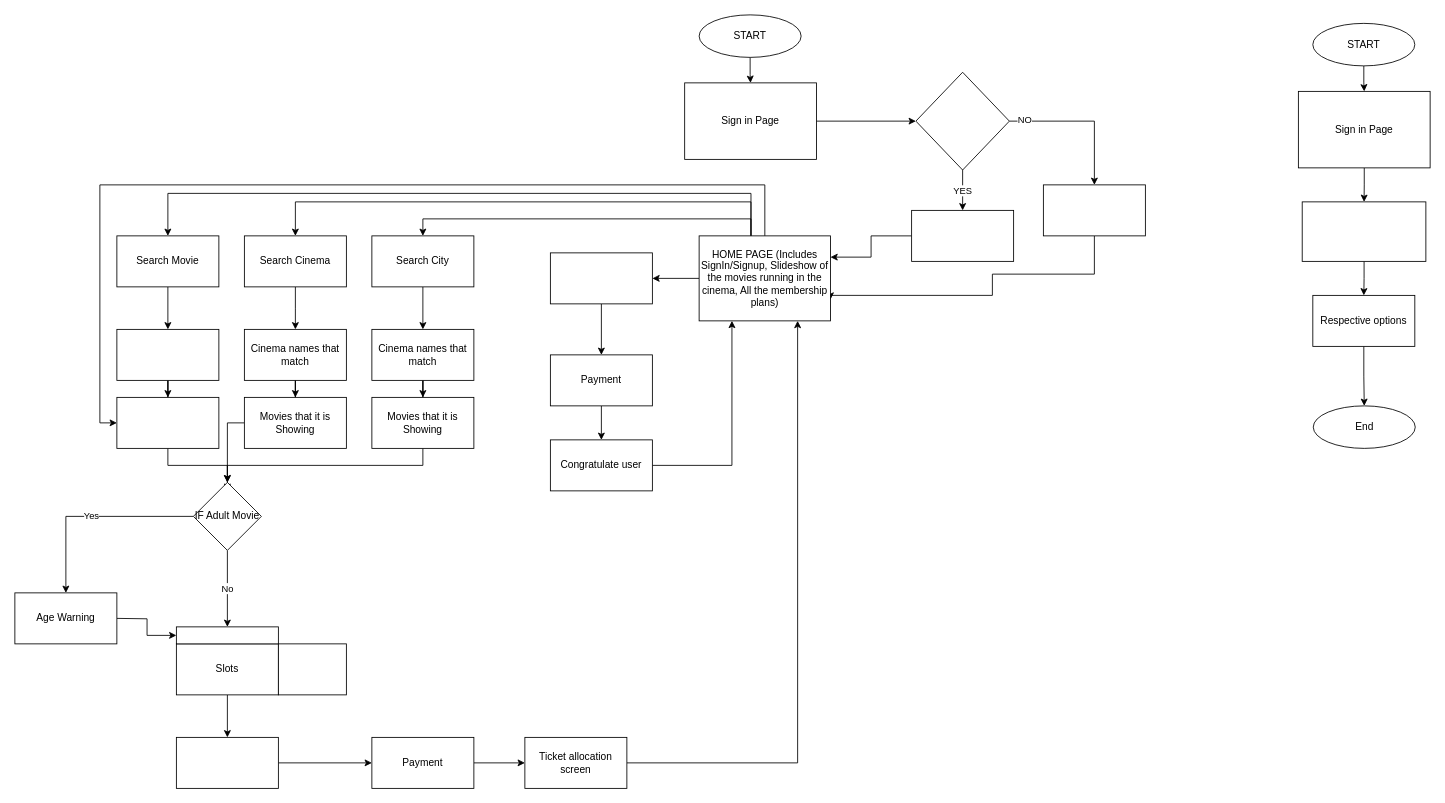
Some shapes in this 1445 by 803 pixel diagram are drawn without their labels. The centre of each missing label's shape, as x and y in pixels:
"ADD, REMOVE, INSERT" belongs at (1363,231).
"cinemas where it is showing" belongs at (167,422).
"Date" belongs at (227,635).
"Enter details" belongs at (962,235).
"Fast filling, Available, Sold Out" belongs at (312,669).
"IF you've an account with us" belongs at (962,120).
"MEMBERSHIP PLANS" belongs at (601,278).
"movie names that match" belongs at (167,354).
"Seats" belongs at (227,762).
"SIGNUP SCREEN" belongs at (1094,210).
